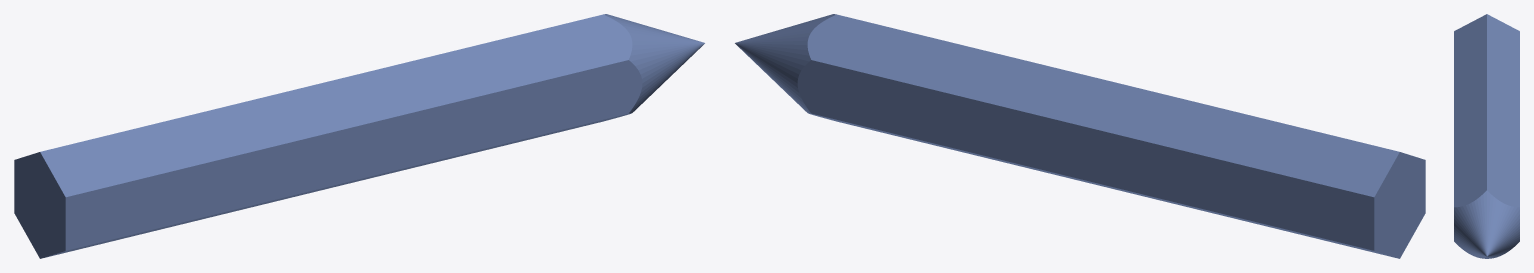
File: Pencil.glb
3 views of the same model, side by side, from view 1: azimuth 30°, elevation 25°; view 2: azimuth 150°, elevation 25°; view 3: azimuth 270°, elevation 25° (orthographic). The views are drawn at different scales.
Visible parts, largest first — view 1: Mesh_Mesh_head_geo.001_lambert2SG.001; view 2: Mesh_Mesh_head_geo.001_lambert2SG.001; view 3: Mesh_Mesh_head_geo.001_lambert2SG.001.
Boxes of the visible parts, x1,y1,x2,y2 form: Mesh_Mesh_head_geo.001_lambert2SG.001: (14,14,704,258); Mesh_Mesh_head_geo.001_lambert2SG.001: (735,14,1425,258); Mesh_Mesh_head_geo.001_lambert2SG.001: (1454,14,1519,258).
Size of the model in its own units: 130 by 20 by 17.32.
